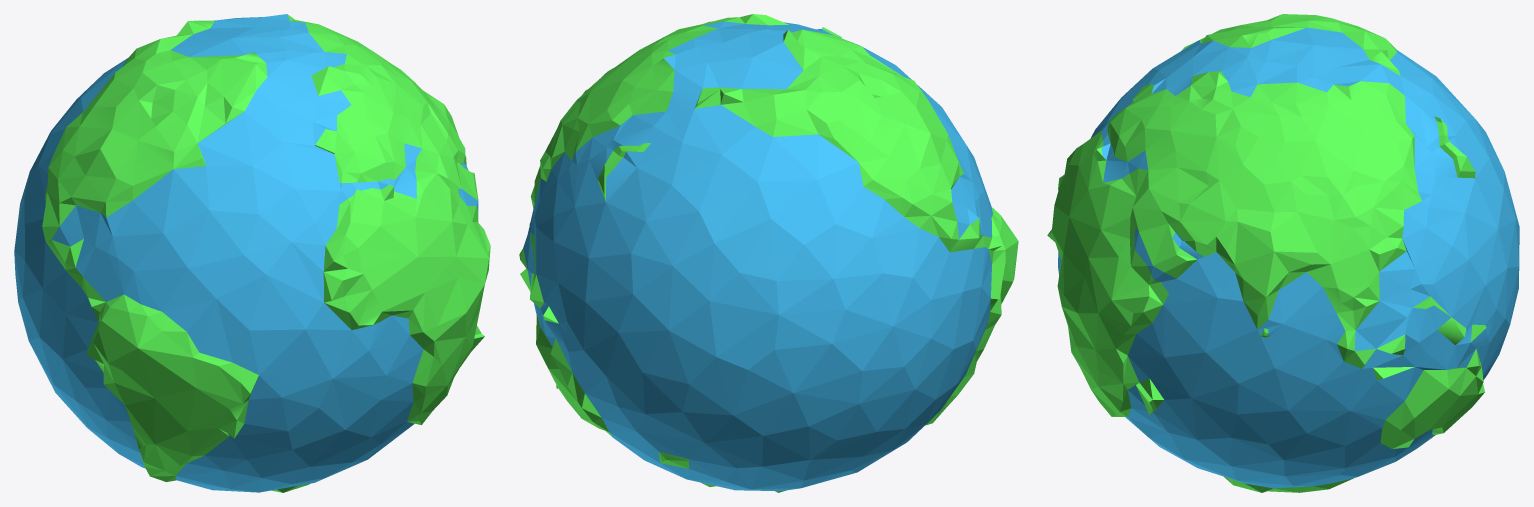
Rendered from earth1.gltf.
The picture shows the model from 3 angles, left to right: view 1: azimuth 30°, elevation 25°; view 2: azimuth 150°, elevation 25°; view 3: azimuth 270°, elevation 25°; orthographic projection.
Visible parts, largest first — view 1: Icosphere001; view 2: Icosphere001; view 3: Icosphere001.
Boxes of the visible parts, left/top/right/bottom form: Icosphere001: left=14, top=14, right=490, bottom=492; Icosphere001: left=519, top=14, right=1018, bottom=492; Icosphere001: left=1047, top=14, right=1519, bottom=492.
Size of the model in its own units: 10.06 by 10.26 by 10.17.
